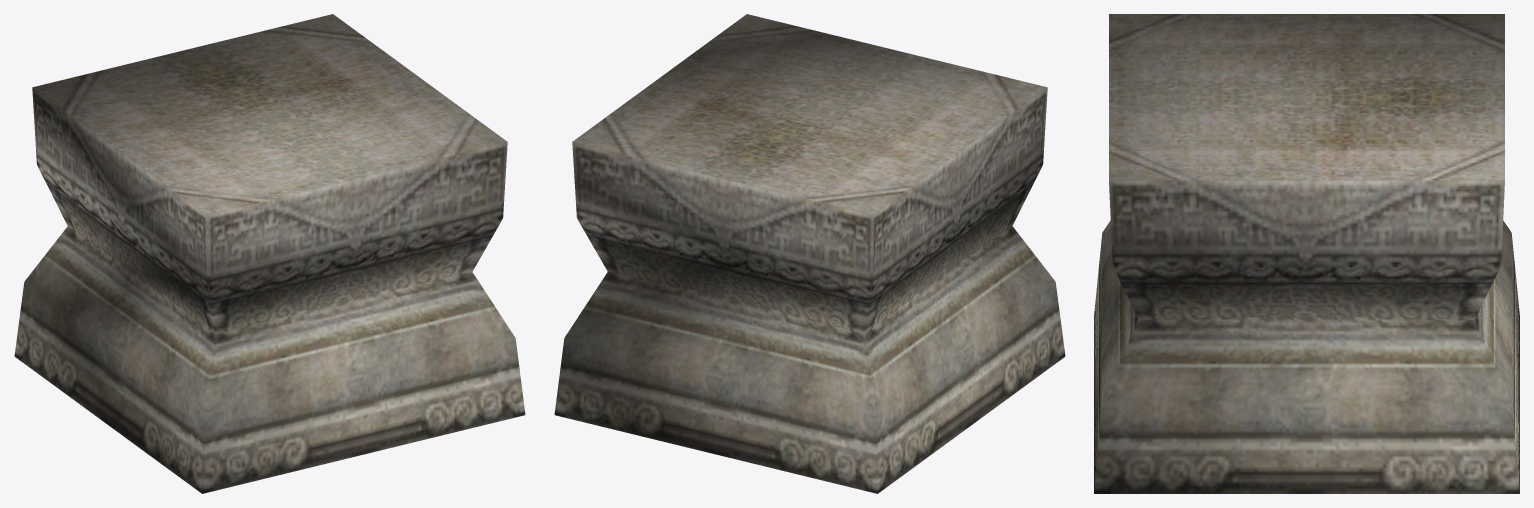
The model's file is cj3_lion_dan.glb.
3 views of the same model, side by side, from view 1: azimuth 30°, elevation 25°; view 2: azimuth 150°, elevation 25°; view 3: azimuth 270°, elevation 25° (orthographic). The views are drawn at different scales.
Visible parts, largest first — view 1: CJ3_lion_dan01; view 2: CJ3_lion_dan01; view 3: CJ3_lion_dan01.
Boxes of the visible parts, box(x1,y1,x2,y2) form: CJ3_lion_dan01: box(14, 14, 525, 493); CJ3_lion_dan01: box(554, 14, 1065, 493); CJ3_lion_dan01: box(1094, 14, 1519, 493).
Size of the model in its own units: 2.89 by 2.32 by 2.91.
Materials: 1 (1 with a texture image).
